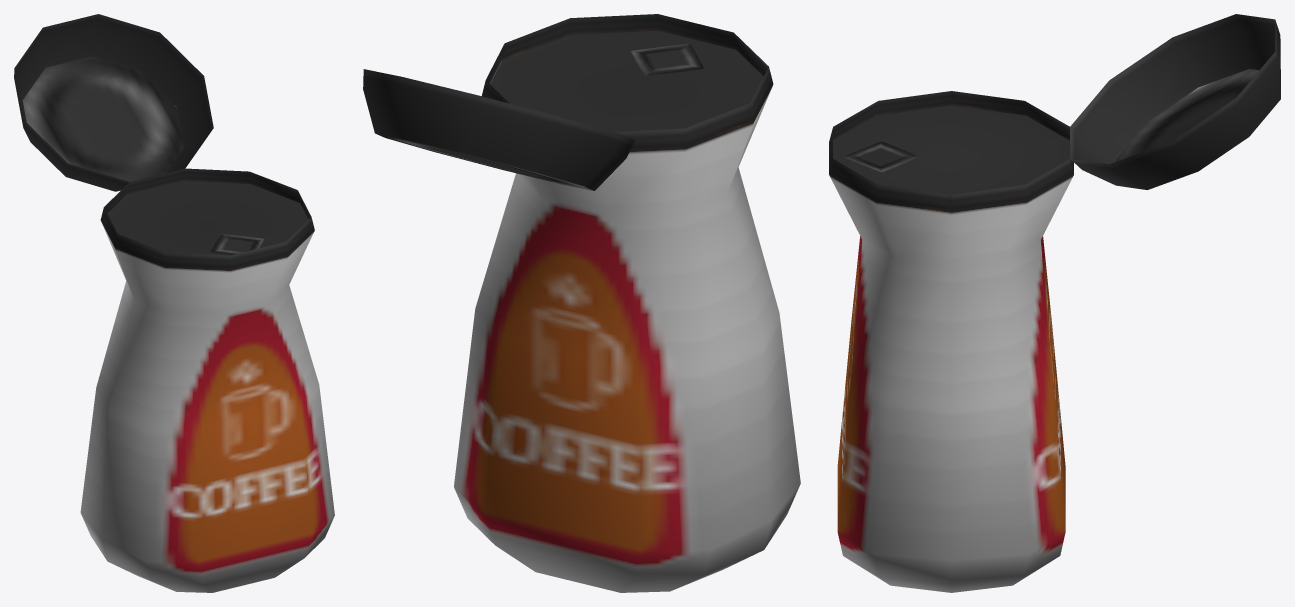
Rendered from CoffeeEmpty.fbx.
3 views of the same model, side by side, from view 1: azimuth 30°, elevation 25°; view 2: azimuth 150°, elevation 25°; view 3: azimuth 270°, elevation 25° (orthographic). The views are drawn at different scales.
Visible parts, largest first — view 1: Coffee001.002; view 2: Coffee001.002; view 3: Coffee001.002.
Part boxes in pixels (x1=…): Coffee001.002: x1=14, y1=14, x2=334, y2=592; Coffee001.002: x1=363, y1=14, x2=800, y2=592; Coffee001.002: x1=829, y1=14, x2=1280, y2=592.
Bounding box in the file's own units: 21.3 × 42.12 × 33.34.
